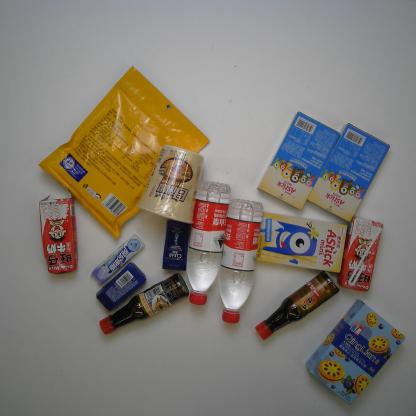Candy: (86, 233, 148, 285)
Dessert: (303, 298, 408, 408), (306, 120, 392, 223), (257, 110, 342, 214), (252, 210, 352, 274)
Dried Fruit: (37, 62, 211, 244)
Drink: (184, 180, 235, 308), (218, 195, 265, 326)
Instant Noodles: (136, 142, 209, 230)
Milk: (333, 216, 386, 295), (35, 185, 80, 274)
Personal Hygiene: (93, 258, 149, 312), (159, 213, 196, 272)
Seasoner: (254, 269, 340, 342), (97, 272, 190, 336)
